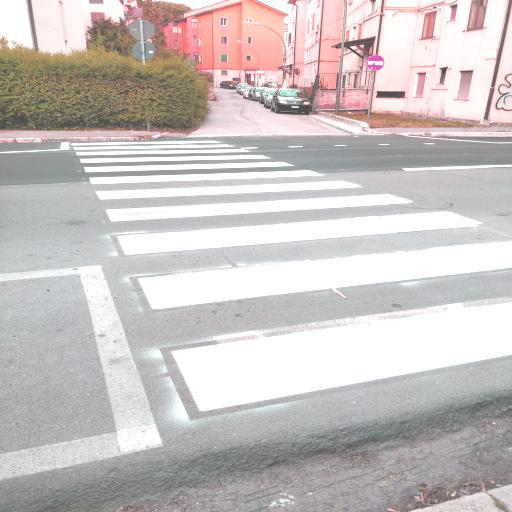crosswalk: (81, 190, 489, 260)
